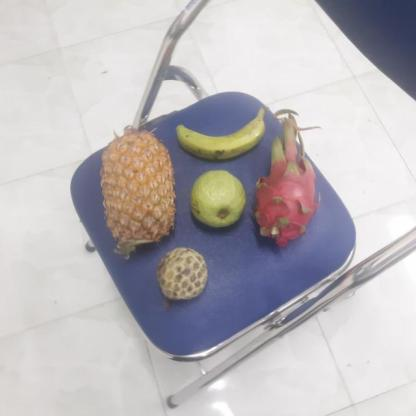annona: (152, 248, 209, 301)
banana: (171, 102, 266, 163)
guava: (187, 168, 250, 226)
pineapple: (97, 128, 176, 250)
pitaya: (248, 144, 318, 239)
